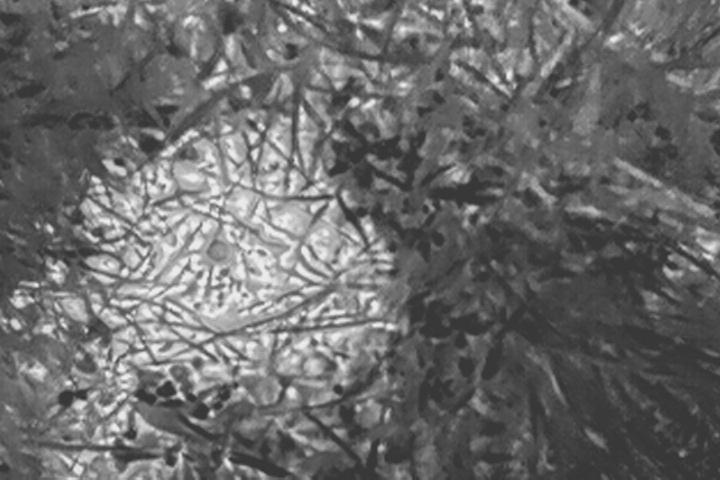landmine: (37, 89, 400, 417)
